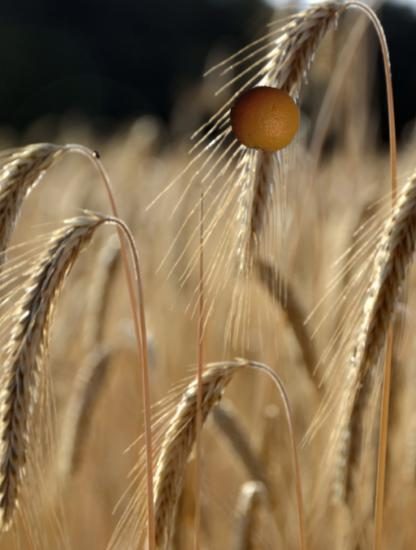Orange: (230, 84, 300, 154)
